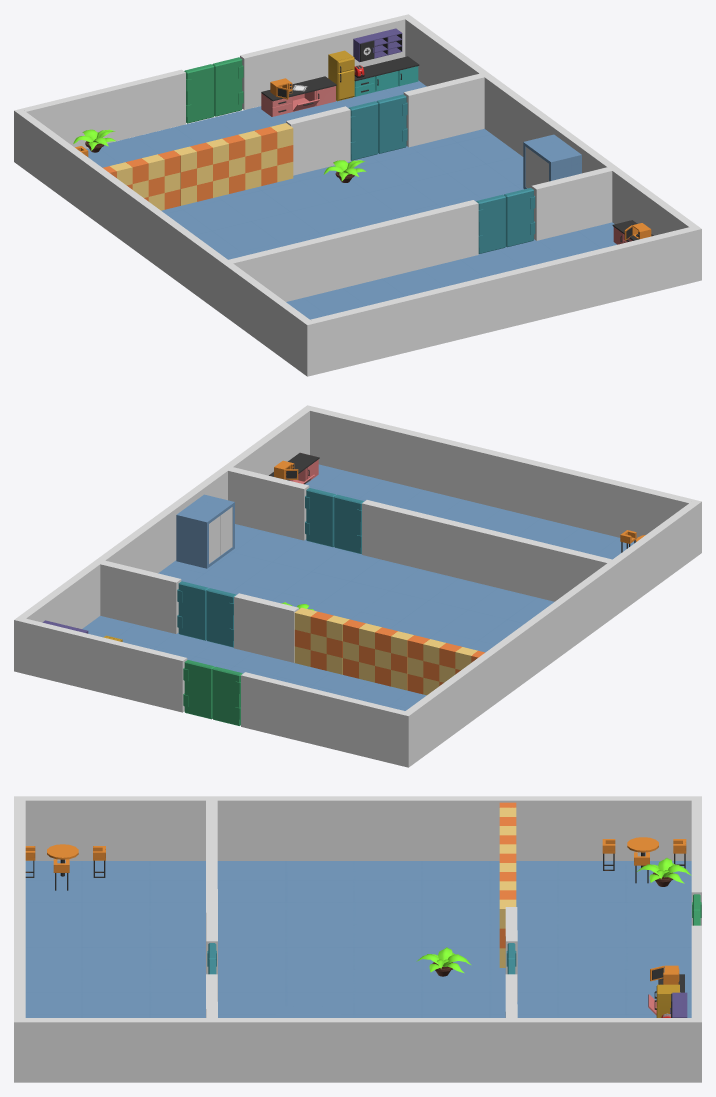
Rendered from maps_13.fbx.
3 views of the same model, one above another, from view 1: azimuth 30°, elevation 25°; view 2: azimuth 150°, elevation 25°; view 3: azimuth 270°, elevation 25° (orthographic). The views are drawn at different scales.
Parts seen in each view (by area): view 1: frames_13_geo, frames_06_geo, frames_03_geo, frames_02_geo2, frames_04_geo, frames_12_geo, frames_11_geo, frames_02_geo1, frames_02_geo3, frames_02_geo, polySurface170 (×2), polySurface171 (×2) (+7 smaller); view 2: frames_13_geo, frames_06_geo, frames_03_geo, frames_02_geo2, frames_04_geo, frames_11_geo, frames_12_geo, frames_02_geo1, frames_02_geo3, frames_02_geo, polySurface170 (×2), polySurface171 (×2) (+4 smaller); view 3: frames_13_geo, frames_04_geo, frames_03_geo, frames_06_geo, frames_02_geo2, frames_12_geo, frames_11_geo, tu_01_geo, Imbush_geo3, Imbush_geo2, frames_02_geo, polySurface127 (+4 smaller).
Boxes of the visible parts, x1,y1,x2,y2 form: frames_13_geo: (86, 80, 616, 319); frames_06_geo: (310, 227, 694, 374); frames_03_geo: (14, 108, 314, 376); frames_02_geo2: (228, 200, 478, 301); frames_04_geo: (401, 14, 701, 282); frames_12_geo: (22, 69, 185, 148); frames_11_geo: (240, 16, 405, 109); frames_02_geo1: (403, 73, 484, 147); frames_02_geo3: (531, 167, 612, 240); frames_02_geo: (286, 106, 350, 175); polySurface170 (×2): (376, 94, 535, 247); polySurface171 (×2): (348, 101, 505, 253); frames_13_geo: (82, 464, 635, 710); frames_06_geo: (310, 407, 693, 541); frames_03_geo: (401, 499, 701, 767); frames_02_geo2: (362, 500, 612, 601); frames_04_geo: (14, 405, 314, 673); frames_11_geo: (21, 618, 187, 712); frames_12_geo: (241, 672, 404, 765); frames_02_geo1: (100, 560, 181, 633); frames_02_geo3: (228, 467, 309, 540); frames_02_geo: (234, 593, 298, 662); polySurface170 (×2): (177, 488, 336, 640); polySurface171 (×2): (206, 494, 363, 647); frames_13_geo: (25, 861, 691, 1017); frames_04_geo: (14, 1018, 701, 1082); frames_03_geo: (14, 796, 701, 860); frames_06_geo: (14, 800, 25, 1017); frames_02_geo2: (206, 800, 217, 1001); frames_12_geo: (691, 800, 701, 925); frames_11_geo: (691, 925, 701, 1017); tu_01_geo: (275, 1006, 340, 1017); Imbush_geo3: (416, 947, 471, 976); Imbush_geo2: (637, 858, 691, 886); frames_02_geo: (505, 907, 517, 1001); polySurface127: (654, 984, 679, 1017).
Size of the model in its own units: 71.19 by 9.21 by 91.67.
Materials: 11 (11 with a texture image).
